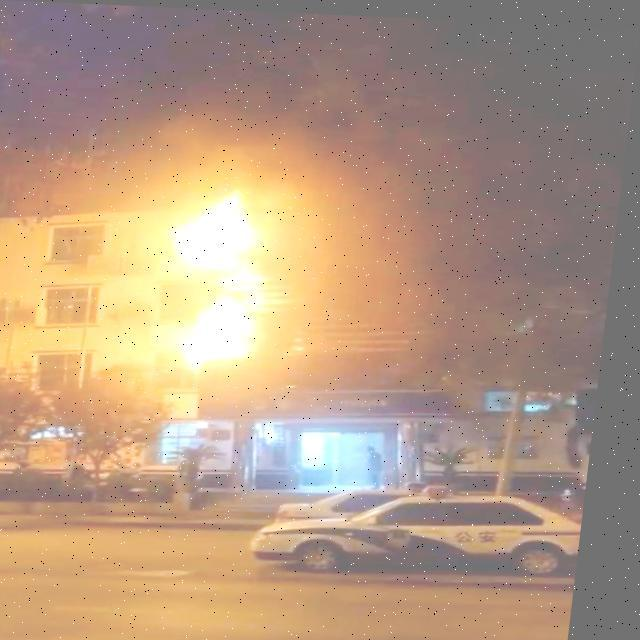Fire: (172, 194, 304, 358)
